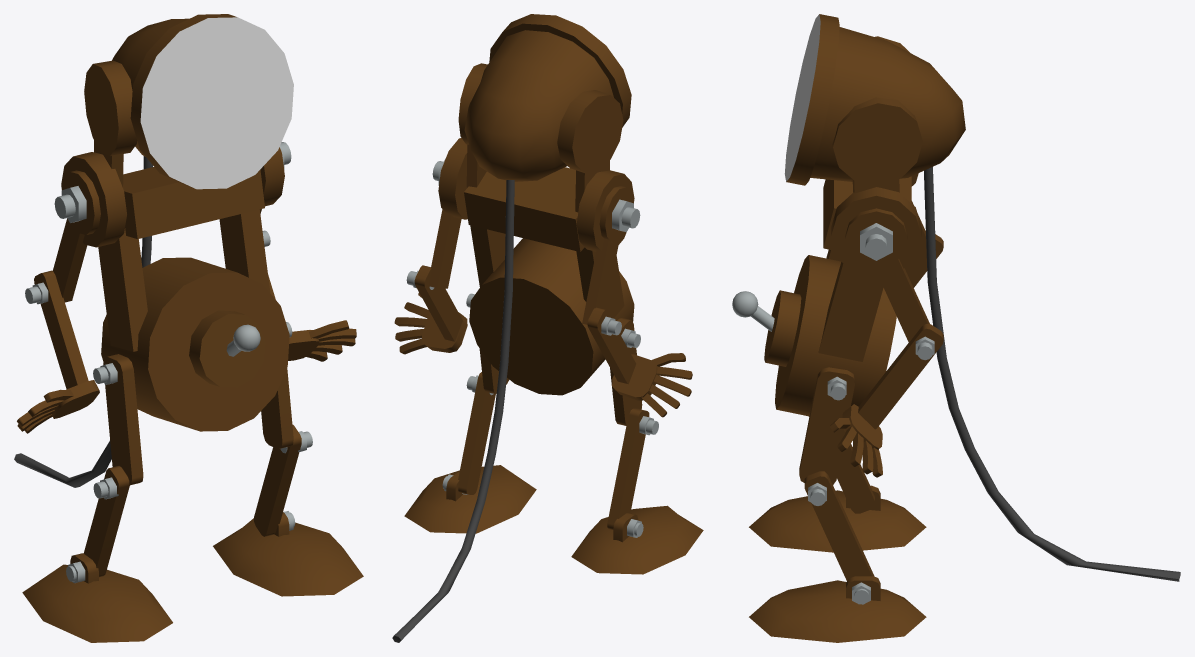
The model's file is Table_lamp.fbx.
3 renders of one model, left to right at view 1: azimuth 30°, elevation 25°; view 2: azimuth 150°, elevation 25°; view 3: azimuth 270°, elevation 25°, orthographic. The views are drawn at different scales.
Visible parts, largest first — view 1: polySurface3; view 2: polySurface3; view 3: polySurface3.
Part boxes in pixels (<box>): polySurface3: <box>14,14,363,642</box>; polySurface3: <box>392,14,703,642</box>; polySurface3: <box>732,14,1180,642</box>.
Size of the model in its own units: 10.39 by 17.05 by 12.37.
